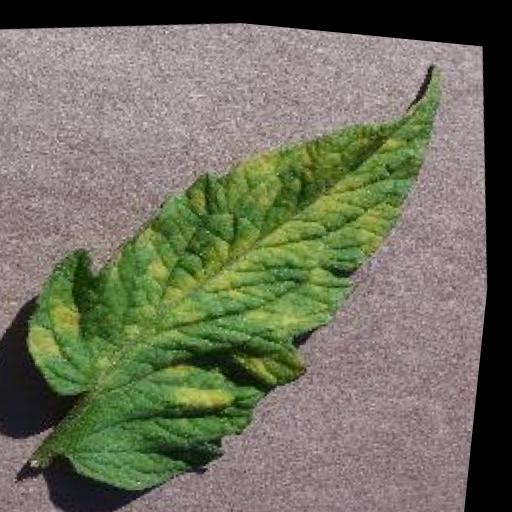Leaf Mold: (0, 35, 494, 512)
